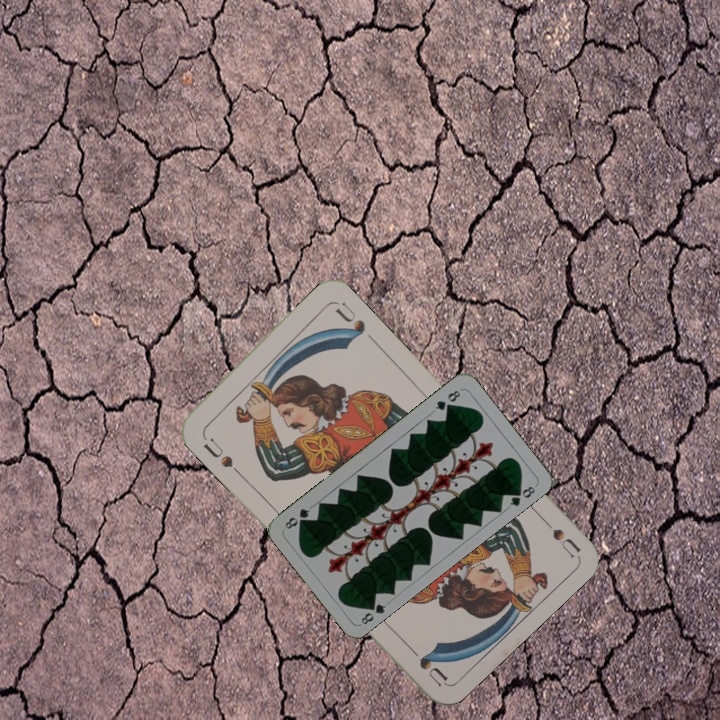G8: (357, 597, 388, 627), (431, 386, 463, 413)
SU: (534, 509, 583, 559), (199, 434, 242, 477)
